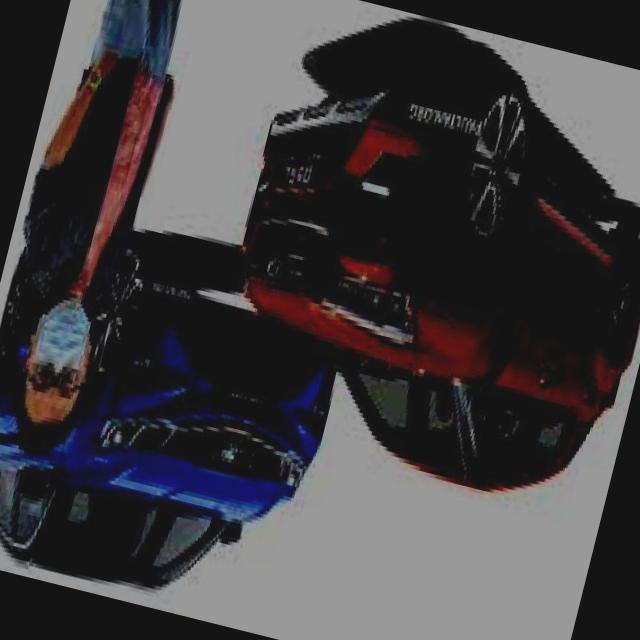PeroduaAtiva: (194, 32, 640, 521)
